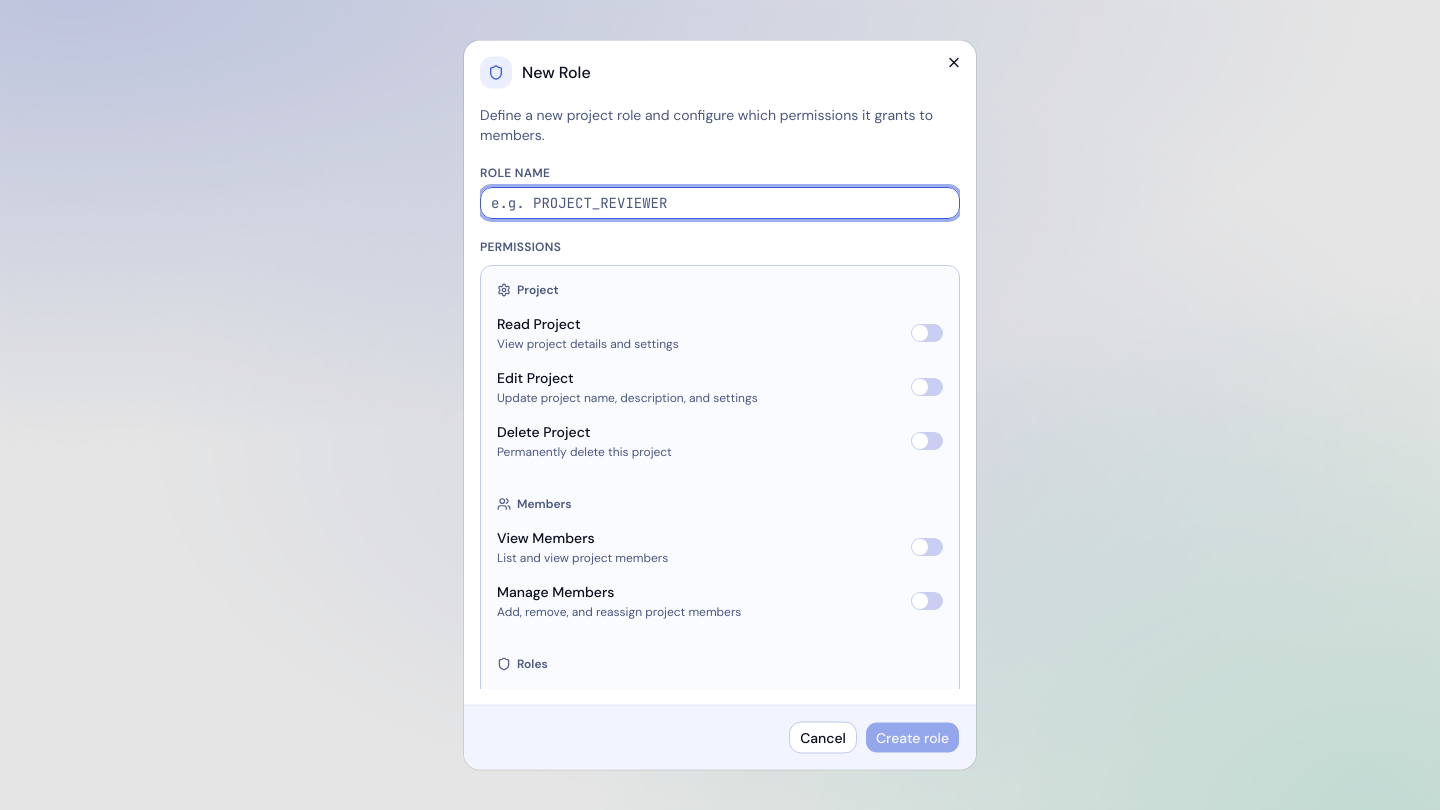
Scenario: ProjectRoleFormDialog › error handling › shows an inline field error when role name is already taken
Type "DEVELOPER" into the field labelled "Role Name" at [720, 202], box [480,186,960,218]
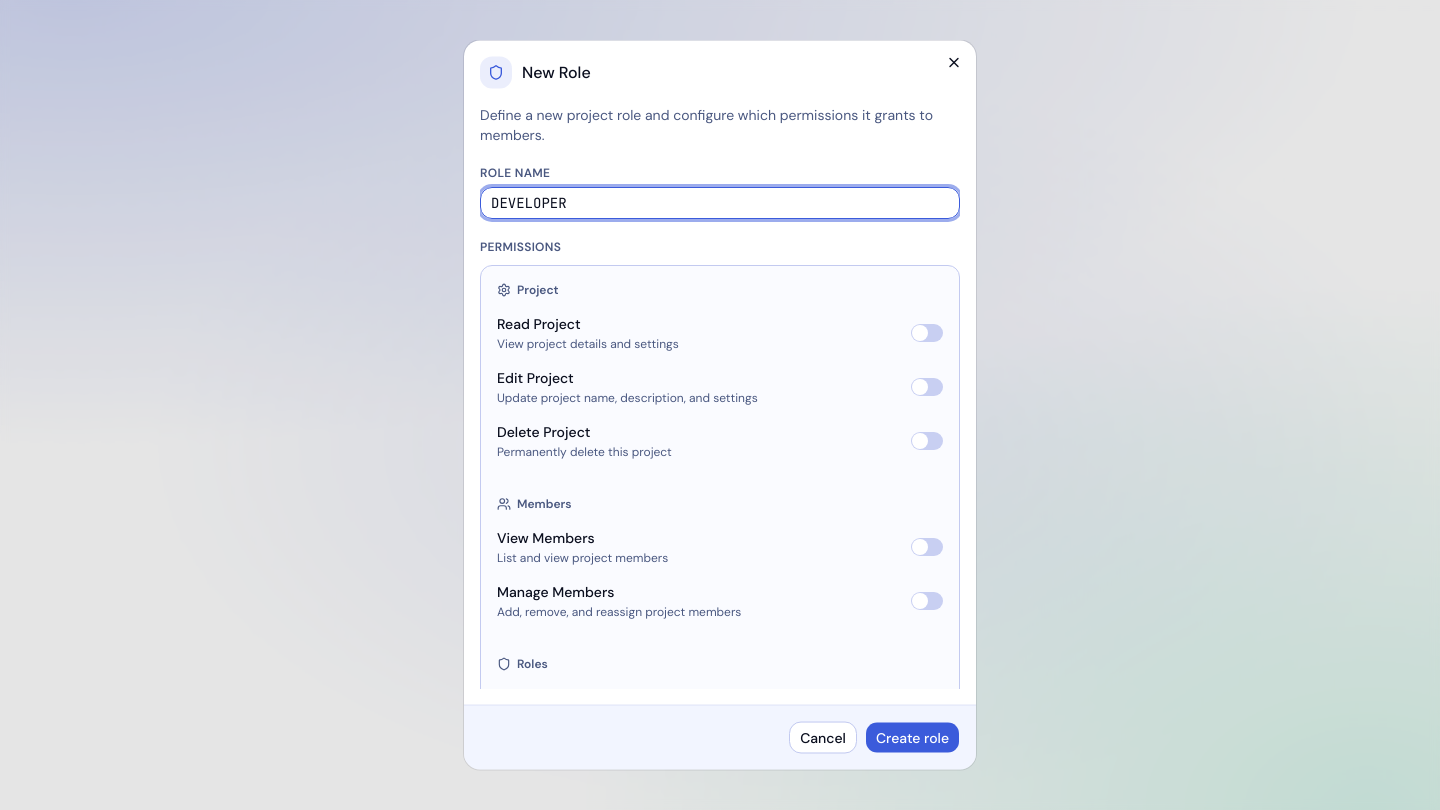
Click the button "Create role" at [912, 738], box [865,722,960,754]
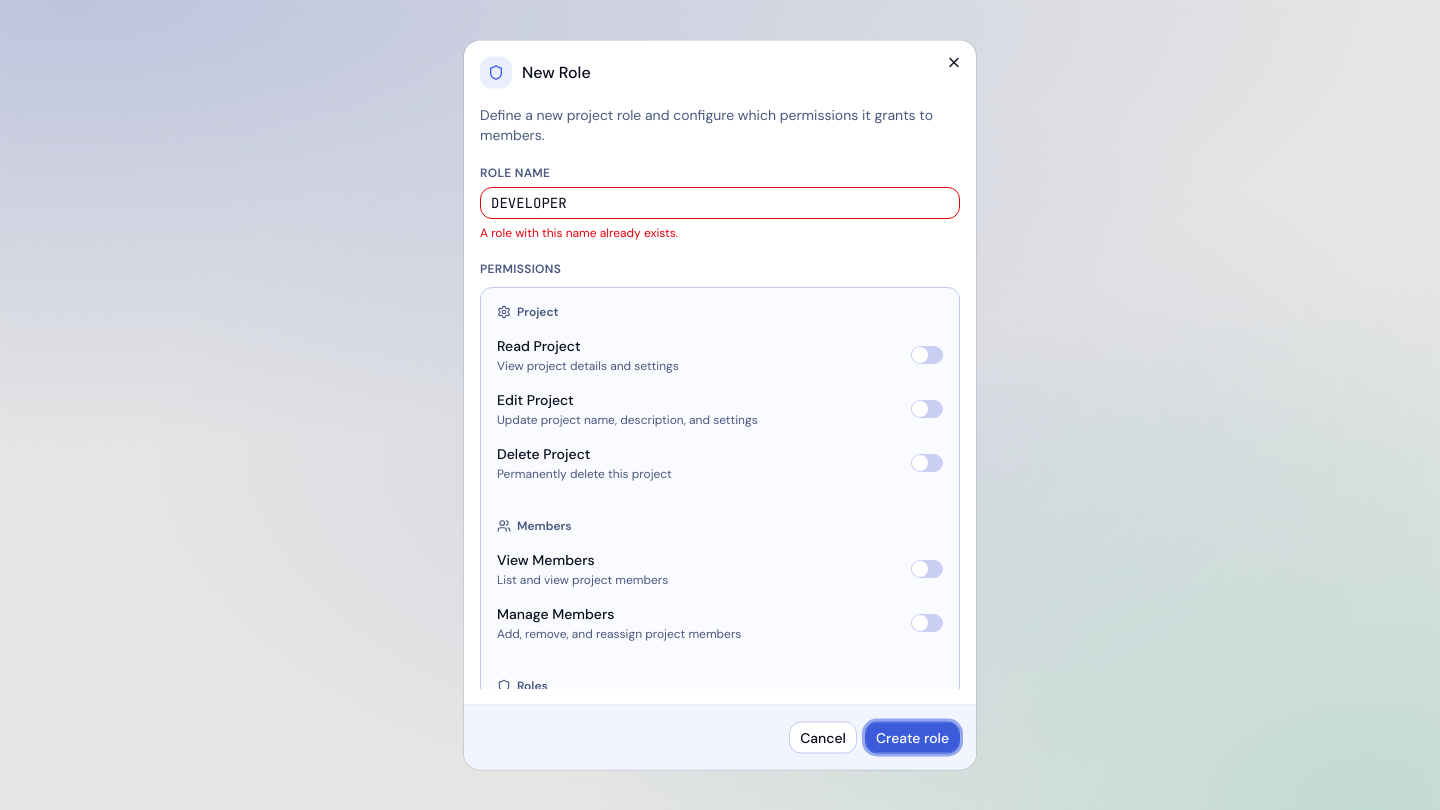
Expected: the text "A role with this name already exists." is shown, [480,224,678,240]
